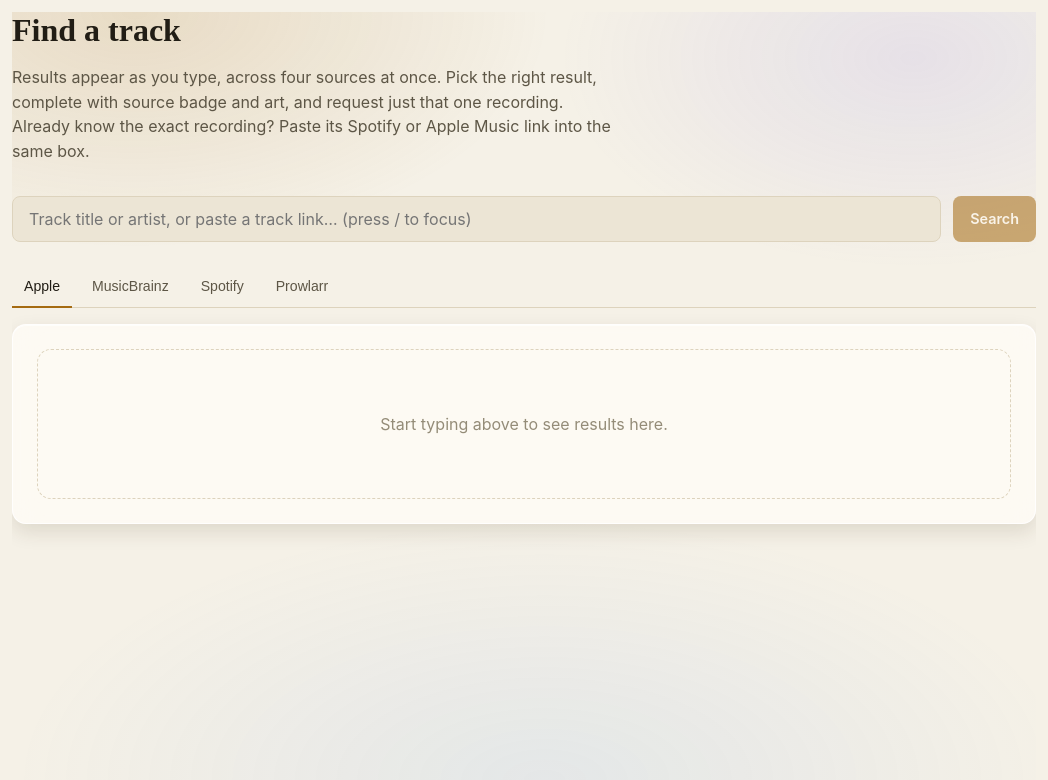
SearchPage unified box: link vs free text › shows the backend's specific error message inline, not a toast or a generic message
Replace the text in the search field with "https://youtube.com/watch?v=dQw4w9WgXcQ" at (477, 219), box left=12, top=196, right=941, bottom=242
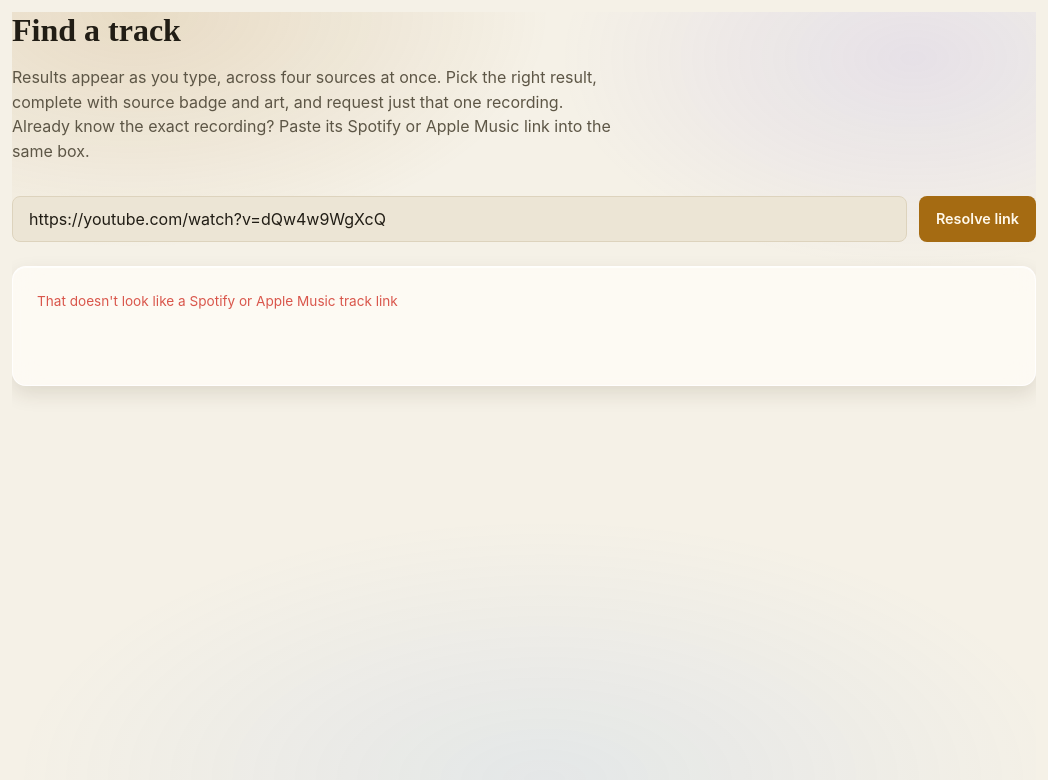
Result: the text "That doesn't look like a Spotify or Apple Music track link" is shown at left=37, top=293, right=398, bottom=309
